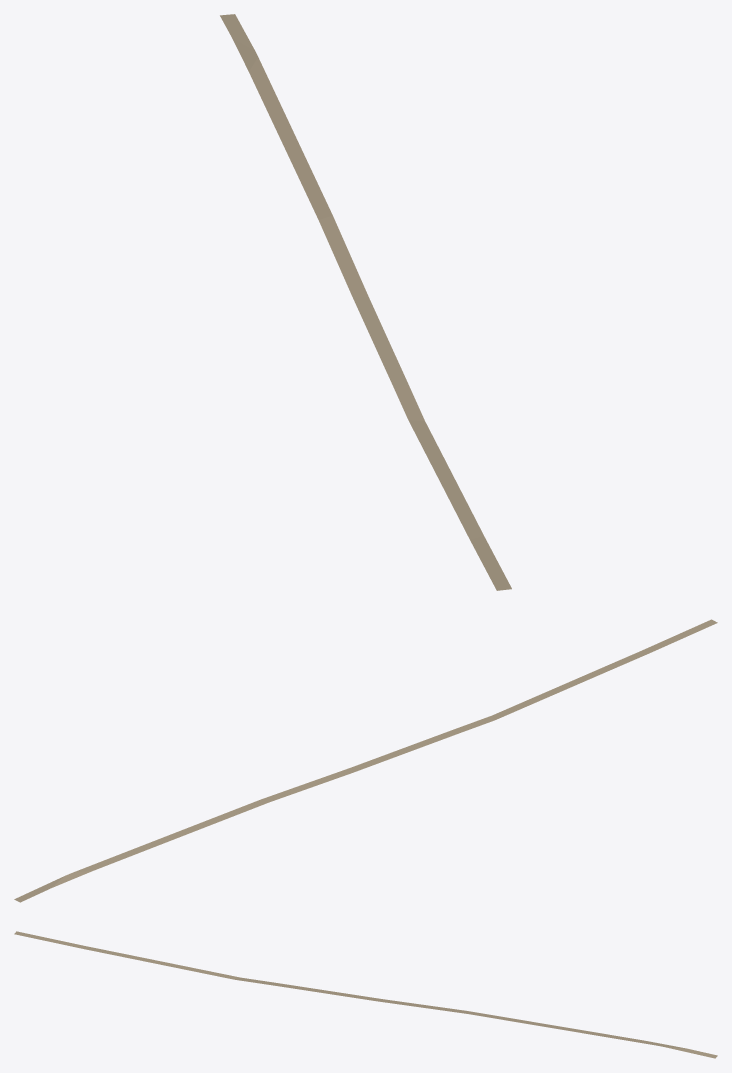
Rendered from farm_17_14_track.glb.
3 renders of one model, top to bottom at view 1: azimuth 30°, elevation 25°; view 2: azimuth 150°, elevation 25°; view 3: azimuth 270°, elevation 25°, orthographic. The views are drawn at different scales.
Visible parts, largest first — view 1: geometry_0; view 2: geometry_0; view 3: geometry_0.
Part boxes in pixels (<box>): geometry_0: <box>220,14,511,590</box>; geometry_0: <box>14,619,717,902</box>; geometry_0: <box>14,931,717,1058</box>.
Bounding box in the file's own units: 105 × 9.68 × 294.
